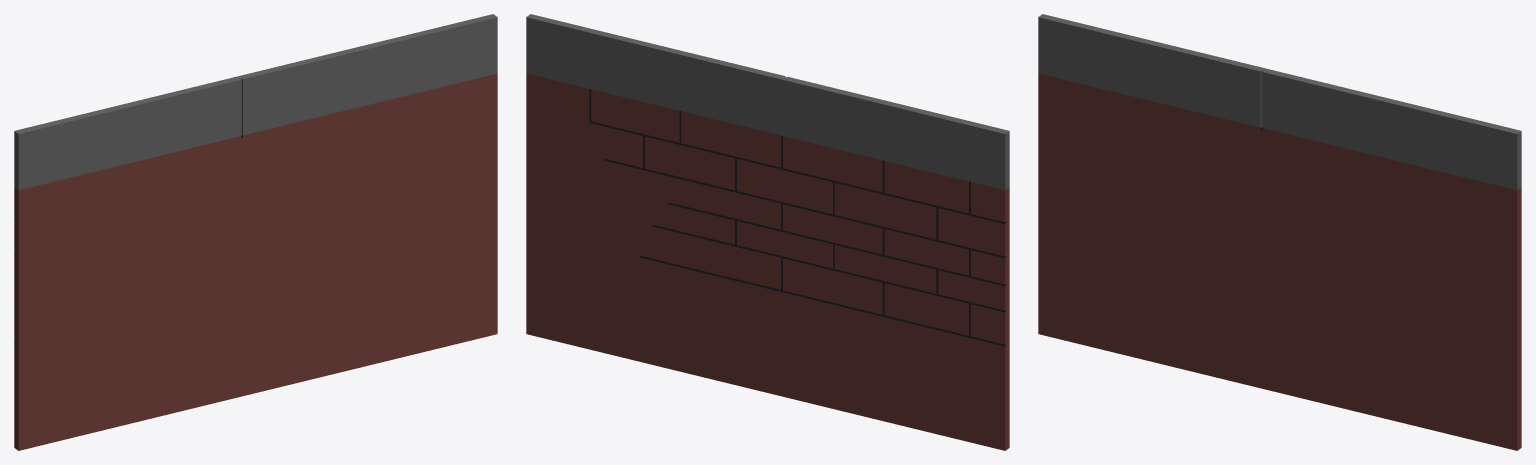
The model's file is TunnelWall-0-TunnelWall.obj.
3 views of the same model, side by side, from view 1: azimuth 30°, elevation 25°; view 2: azimuth 150°, elevation 25°; view 3: azimuth 330°, elevation 25° (orthographic).
Parts seen in each view (by area): view 1: TunnelWall; view 2: TunnelWall; view 3: TunnelWall.
Part boxes in pixels (x1,y1,x2,y2): TunnelWall: (14,14,497,450); TunnelWall: (526,14,1009,450); TunnelWall: (1038,14,1521,450).
Bounding box in the file's own units: 25 × 15.8 × 0.4.
1 material, 1 textured.
